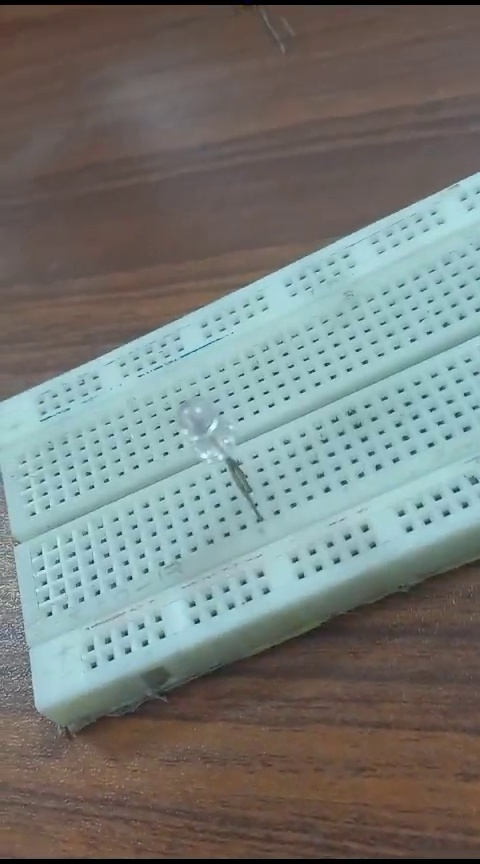LED: (158, 396, 266, 527)
